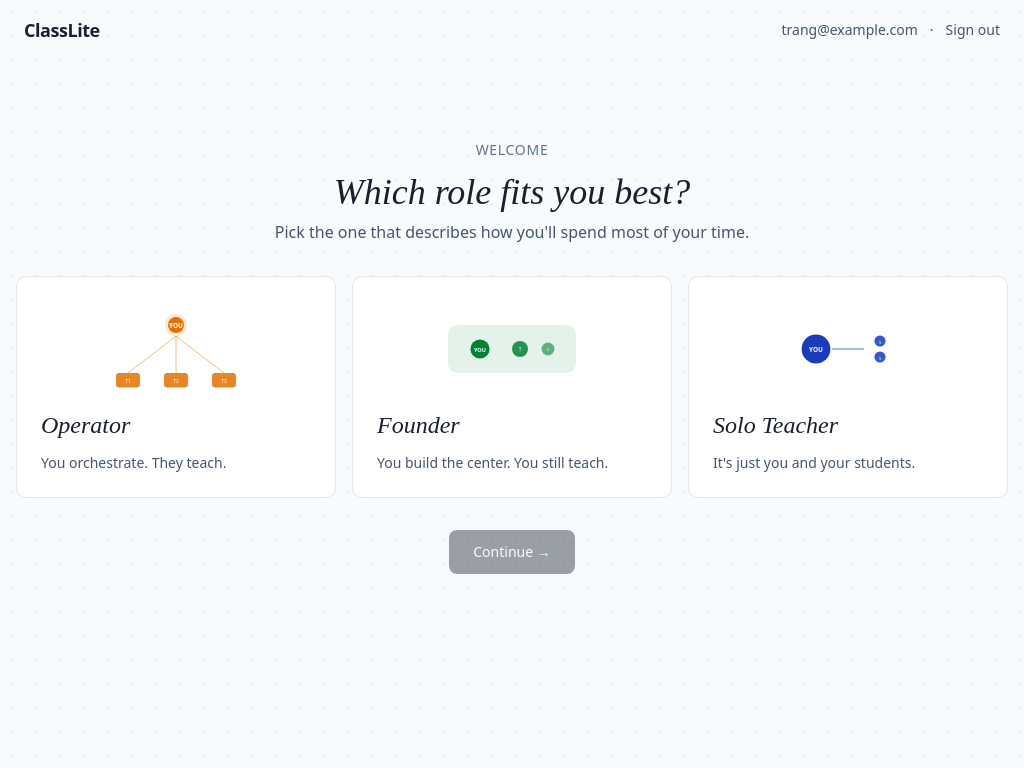
Test: PersonaSelectPage — AC3 Continue → POST persona + PUT progress + navigate › happy path lands on /setup/center
Step 1. Click the radio button labelled "YOU T1 T2 T3 Operator You orchestrate. They teach." → (176,387), box [16,276,336,498]
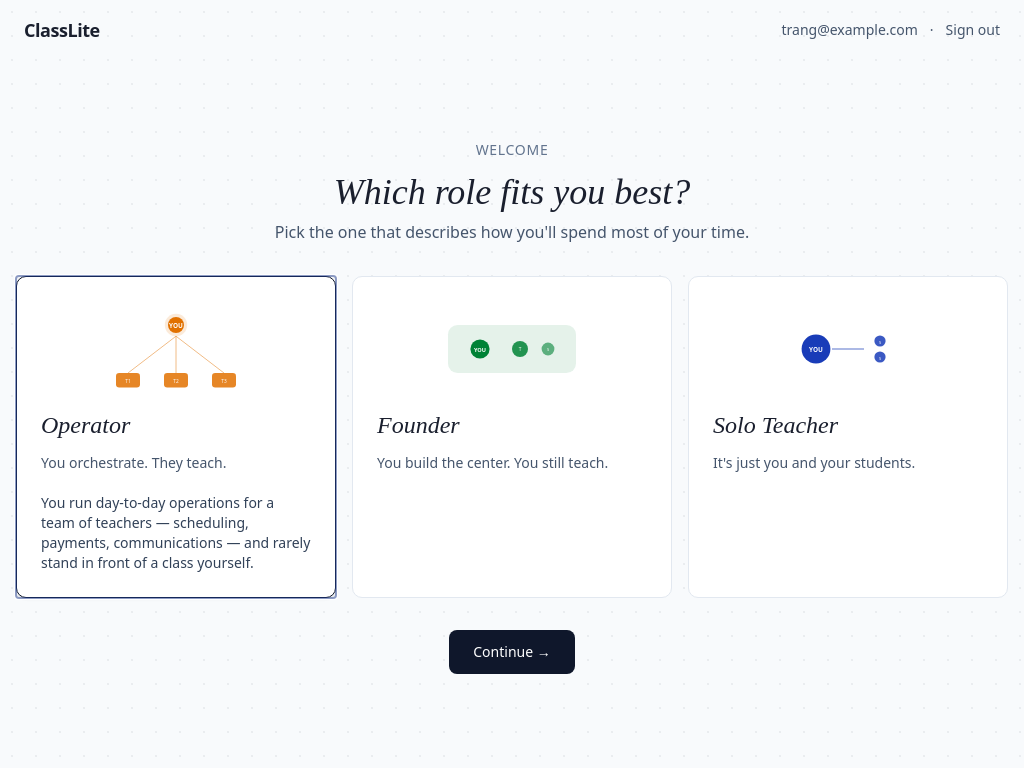
Step 2. Click the button "Continue →" → (512,652), box [449,630,575,674]
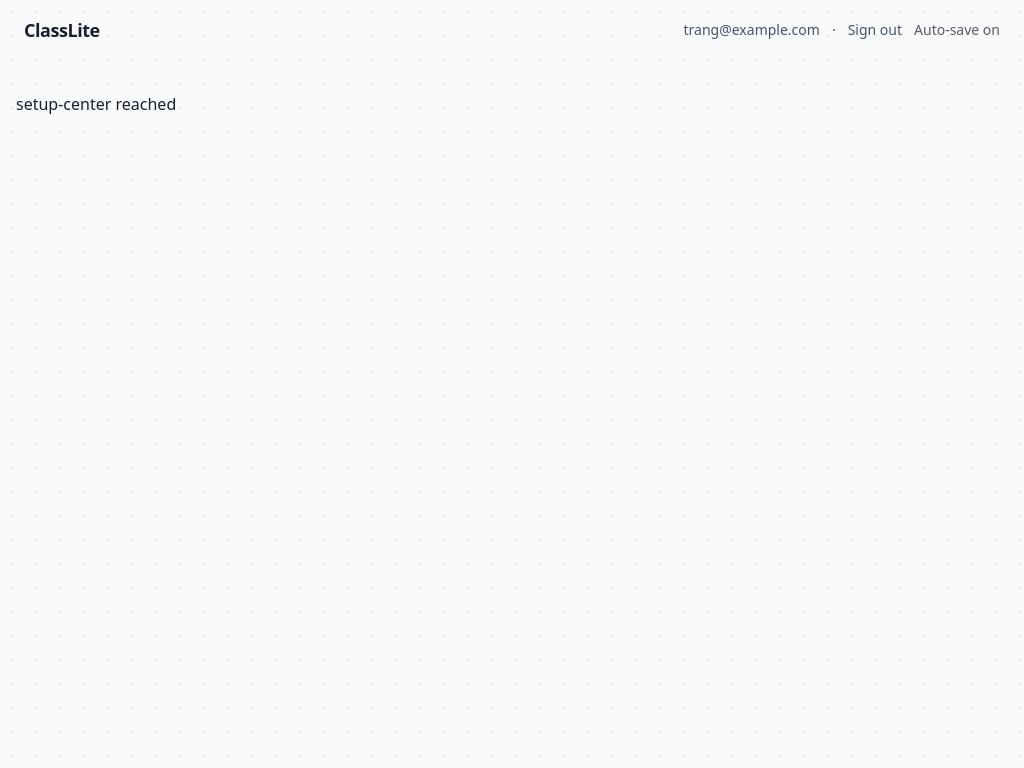
Expected: the text "setup-center reached" is shown, [16,93,176,115]
